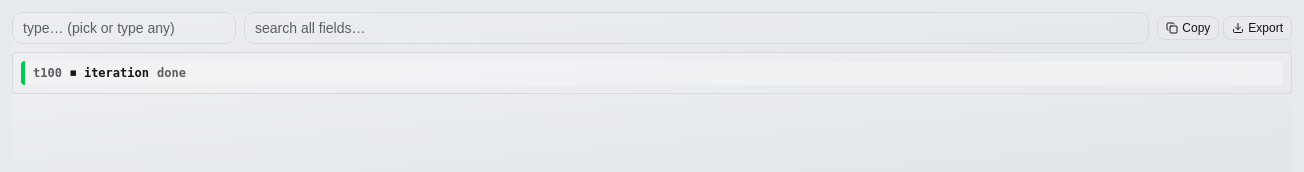
Test: FullAuditLog (paged) › filters by type server-side and shows only the matches
This screenshot has width=1304, height=172.
Expected: the text "done" is shown, [157,66,186,80]
Step 1. Type "status" into the field named "Filter by type" → [124, 28], box [12,12,236,44]
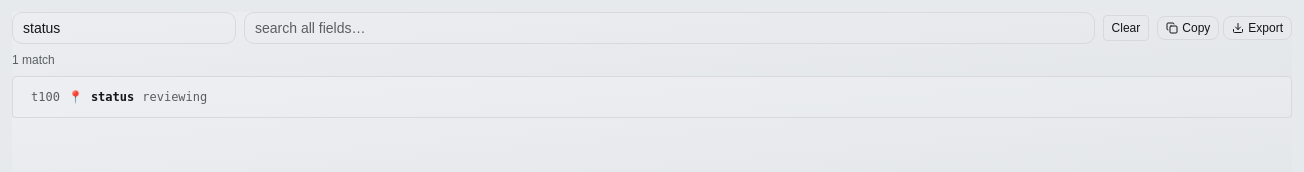
Now the text "reviewing" is shown, box [142,90,207,104]
Now the text "1 match" is shown, box [12,53,55,67]
Now the button "done" is gone
